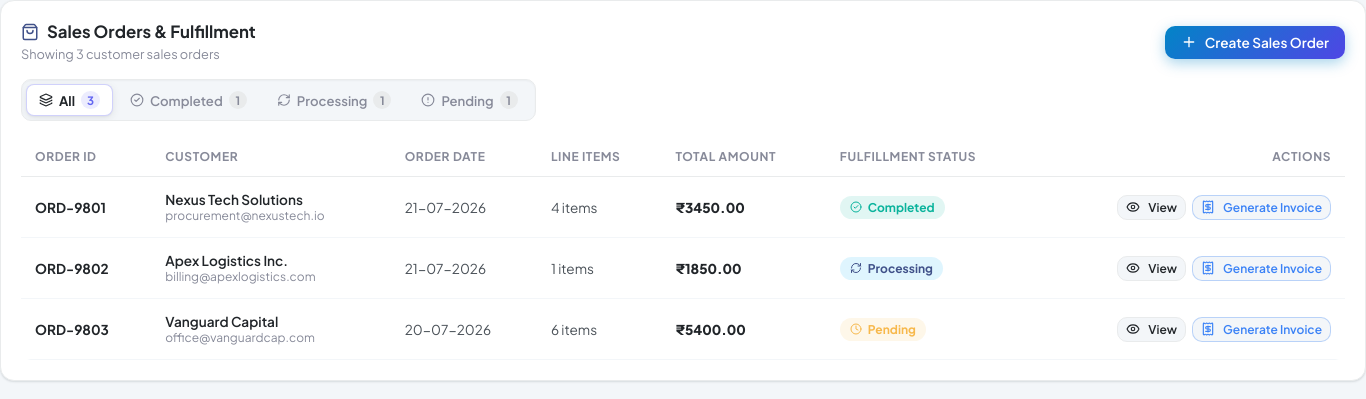
Test case: Sales Module Test Suite › SalesOrderList Component Tests › filters orders by status filter buttons
The width and height of the screenshot is (1366, 399).
# Click 'Processing' status button
Click the button "Processing 1" at (334, 100), box [264,84,404,116]
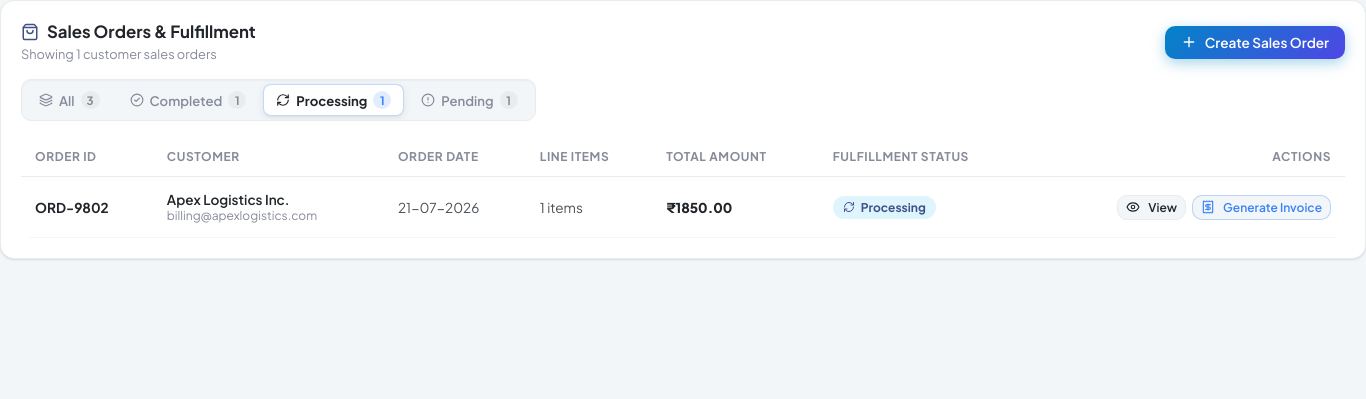
Expected: the text "ORD-9802" is shown, [21,176,153,238]
Now the text "ORD-9801" is gone
